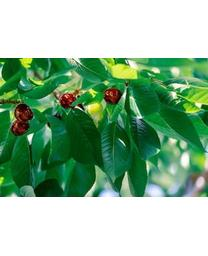cherry: (14, 105, 32, 120), (11, 122, 29, 135), (105, 89, 119, 103), (61, 94, 74, 106)
